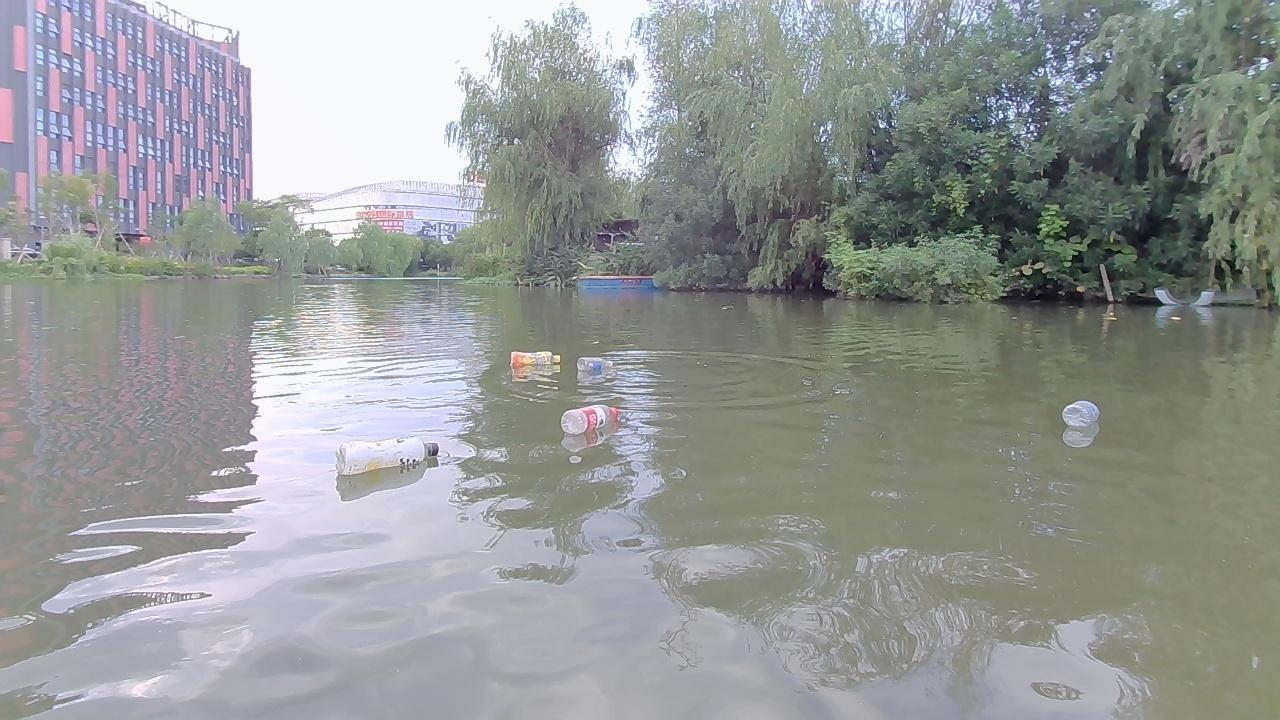bottle: (332, 433, 436, 473), (556, 406, 622, 432), (1061, 395, 1096, 426), (507, 347, 560, 366), (576, 355, 612, 372)
